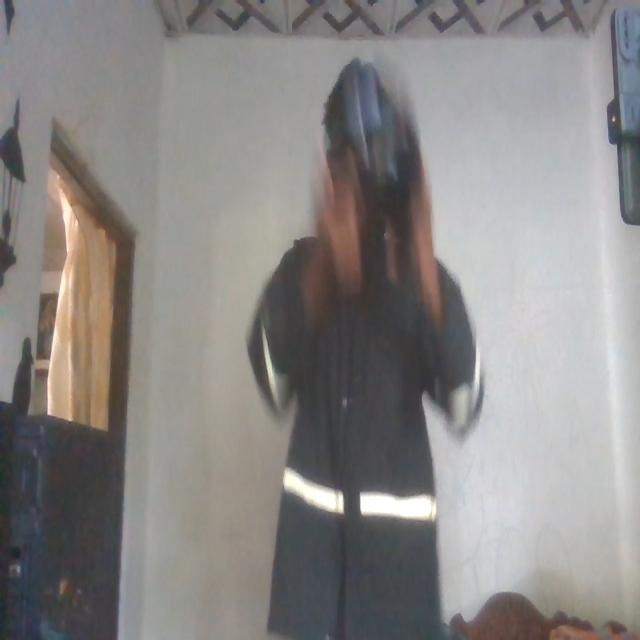Jacket_Wearer: (254, 210, 463, 640)
Person: (235, 57, 473, 640)
